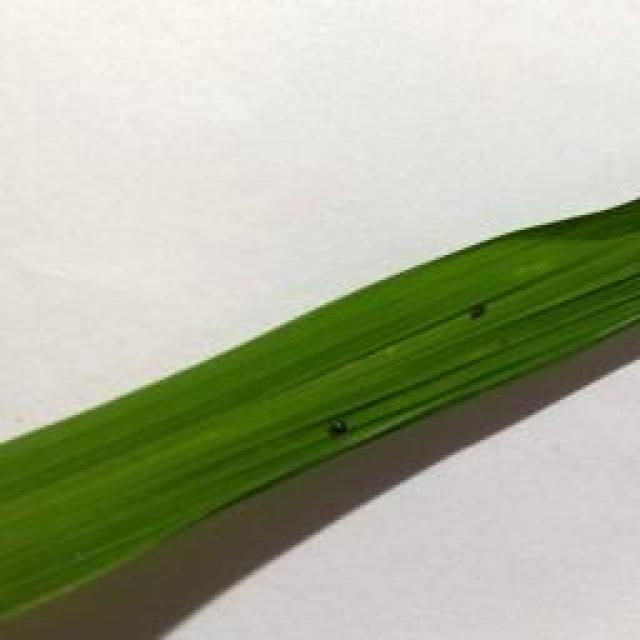Brown_Spot: (452, 294, 496, 326), (317, 410, 355, 443)
